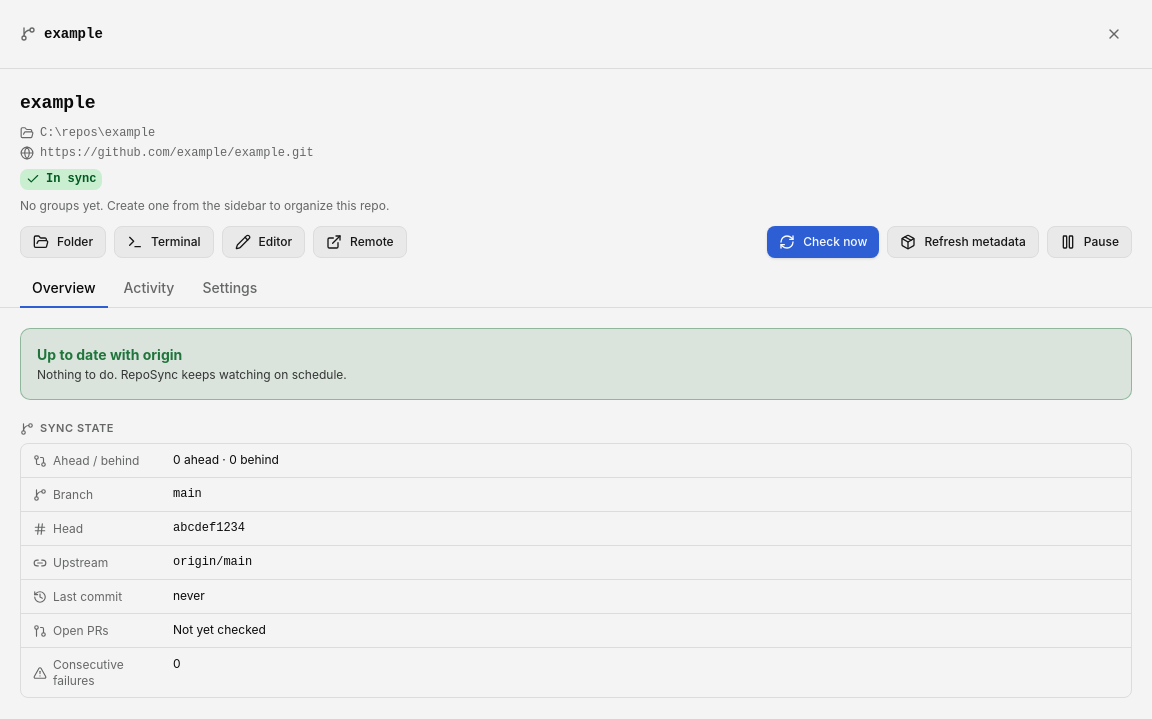
it: RepoDetailPanel tabs (N4) › switches tabs by mouse click; the previous tab's panel is hidden, not unmounted
Expected: the text "Up to date with origin" is shown, [37, 346, 182, 363]
What coordinates should you click on to do the following:
click the tab "Activity"
I would click on:
 (149, 289)
Its box is [112, 270, 186, 308].
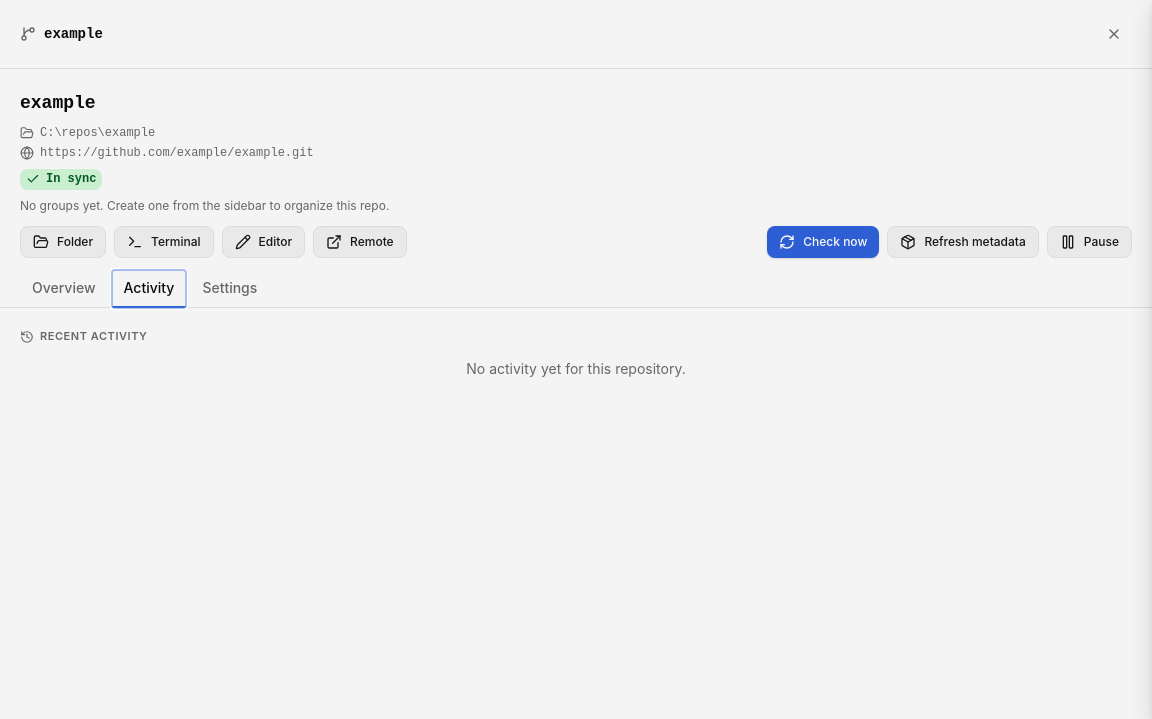
Expected: the text "No activity yet for this repository." is shown, [466, 360, 686, 377]
